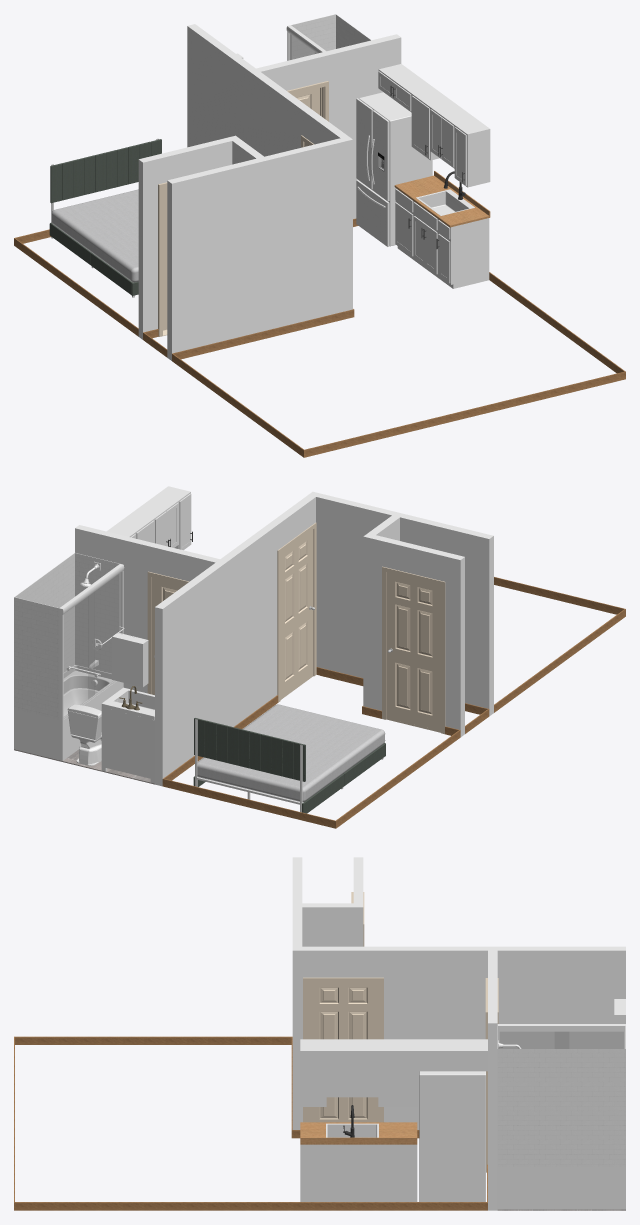
Rendered from interiors.glb.
3 views of the same model, one above another, from view 1: azimuth 30°, elevation 25°; view 2: azimuth 150°, elevation 25°; view 3: azimuth 270°, elevation 25° (orthographic). The views are drawn at different scales.
Parts seen in each view (by area): view 1: GF- interior wall, cabinets_2, GF- Base Board, fridge_steel, bed_grey, bed_white, wood-door, bathroom sink_porcelein.001, kitchenette_wood, bathroom sink_porcelein; view 2: GF- interior wall, wood-door, bathroom sink_porcelein.001, bed_white, GF- Base Board, bathtub_glass.001, bed_grey, bathtub, cabinets_2, bathroom_sink, bathtub_metal_2.001, mirrorcab_cabinet (+3 smaller); view 3: GF- interior wall, cabinets_2, bathroom sink_porcelein.001, fridge_steel, wood-door, GF- Base Board, bathtub, bathtub_glass.001, kitchenette_wood, bathtub_metal_2.001, bathroom sink_porcelein.
Part boxes in pixels (x1,y1,x2,y2): GF- interior wall: [138, 24, 401, 360]; cabinets_2: [378, 64, 490, 288]; GF- Base Board: [14, 218, 625, 457]; fridge_steel: [356, 92, 432, 246]; bed_grey: [49, 139, 161, 295]; bed_white: [51, 189, 138, 282]; wood-door: [158, 81, 328, 336]; bathroom sink_porcelein.001: [291, 14, 371, 59]; kitchenette_wood: [394, 171, 490, 227]; bathroom sink_porcelein: [416, 189, 474, 215]; GF- interior wall: [75, 491, 493, 786]; wood-door: [147, 522, 445, 734]; bathroom sink_porcelein.001: [14, 553, 119, 719]; bed_white: [197, 704, 385, 802]; GF- Base Board: [162, 577, 625, 828]; bathtub_glass.001: [64, 572, 121, 716]; bed_grey: [193, 718, 385, 813]; bathtub: [14, 665, 123, 760]; cabinets_2: [106, 486, 191, 550]; bathroom_sink: [101, 707, 154, 783]; bathtub_metal_2.001: [59, 561, 124, 720]; mirrorcab_cabinet: [112, 632, 148, 687]; GF- interior wall: [292, 857, 625, 1210]; cabinets_2: [300, 1039, 487, 1201]; bathroom sink_porcelein.001: [497, 1026, 625, 1166]; fridge_steel: [419, 1071, 485, 1201]; wood-door: [303, 892, 498, 1172]; GF- Base Board: [14, 1036, 487, 1210]; bathtub: [497, 1167, 625, 1209]; bathtub_glass.001: [500, 1031, 623, 1048]; kitchenette_wood: [300, 1122, 417, 1144]; bathtub_metal_2.001: [497, 1024, 625, 1048]; bathroom sink_porcelein: [326, 1123, 625, 1210].
Bounding box in the file's own units: 4.67 × 2.46 × 7.29.
26 materials, 9 textured.
